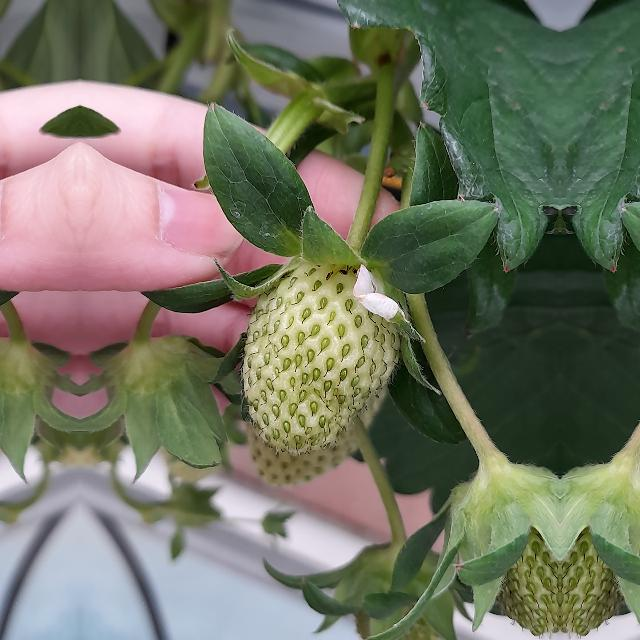Health_25: (242, 262, 400, 450), (460, 460, 560, 640), (560, 460, 640, 640)
